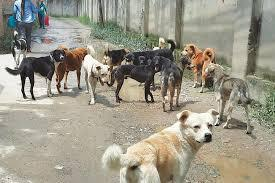normal_dogs: (103, 109, 223, 183), (206, 63, 259, 138), (13, 49, 64, 102), (115, 56, 157, 112), (159, 58, 194, 110), (78, 53, 110, 108), (124, 36, 177, 68), (182, 43, 214, 92), (58, 41, 84, 92), (9, 30, 30, 62), (104, 43, 128, 66)
